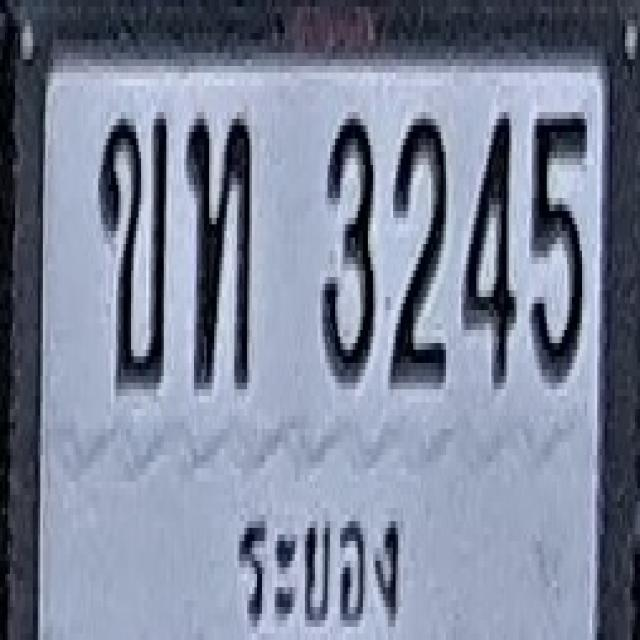-: (98, 109, 166, 386), (186, 112, 252, 389)
2: (391, 112, 446, 383)
3: (321, 112, 374, 383)
4: (462, 105, 516, 382)
5: (530, 109, 586, 379)
